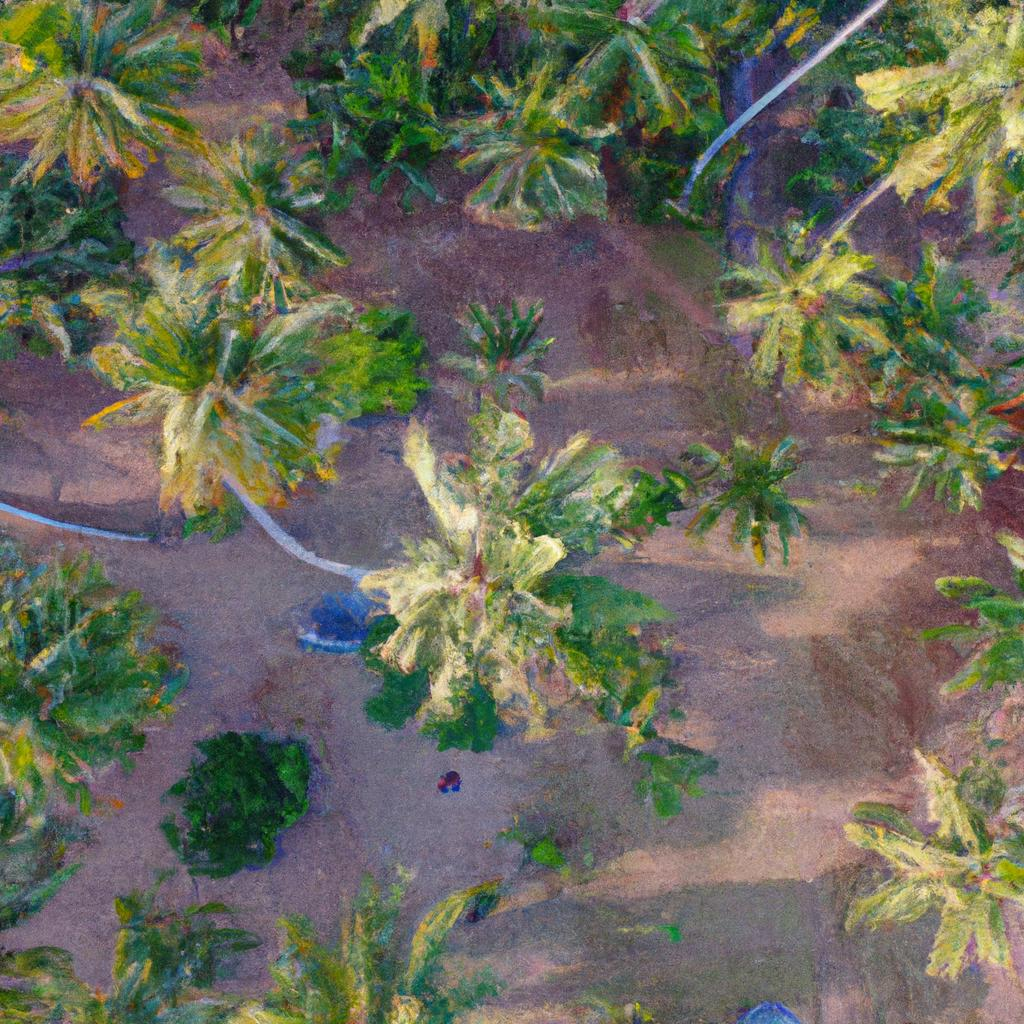coconut_tree: (351, 426, 684, 737), (97, 215, 413, 499)
